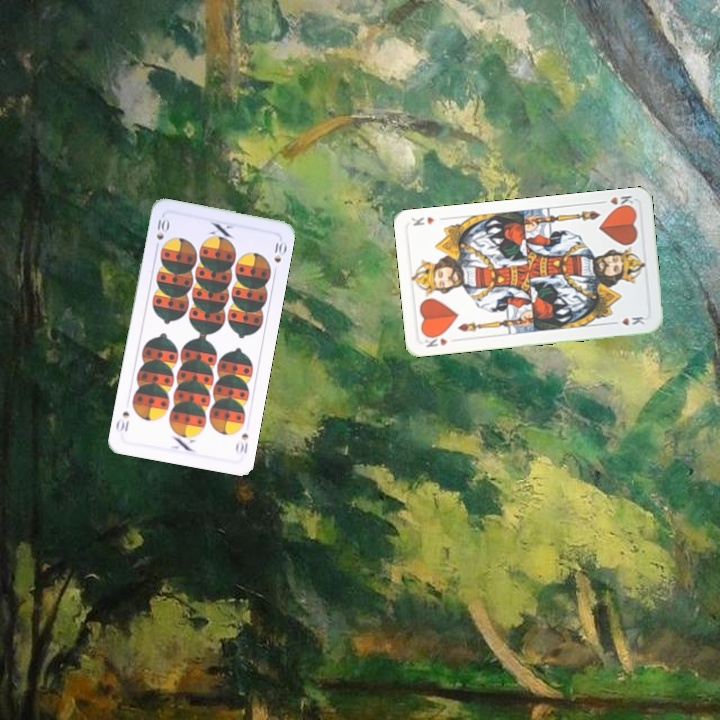HK: (596, 191, 636, 212), (419, 330, 450, 350)
S10: (151, 214, 171, 253), (232, 429, 251, 456)
